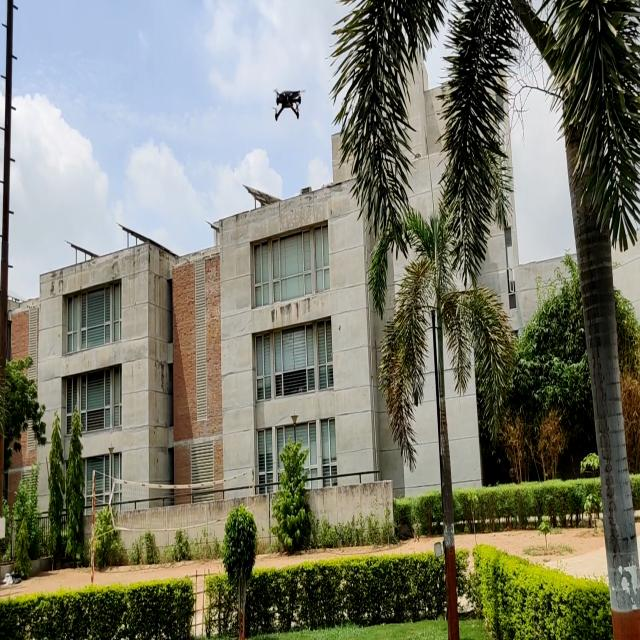drone: (264, 84, 308, 130)
